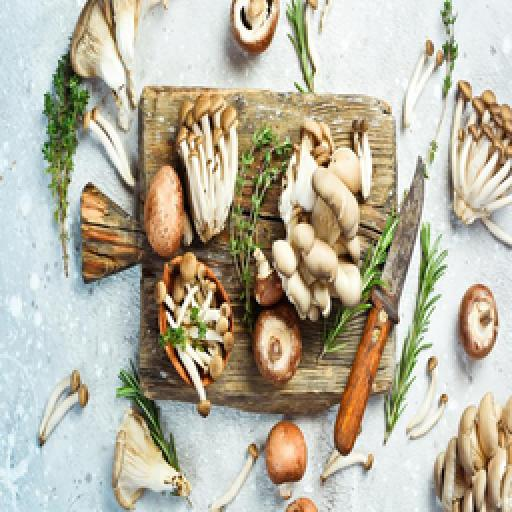mushrooms: (264, 122, 368, 330), (66, 0, 144, 196), (154, 248, 236, 398), (444, 78, 512, 246), (174, 96, 242, 246), (436, 388, 512, 512), (106, 426, 192, 512), (78, 182, 144, 286), (142, 162, 190, 266), (252, 308, 302, 388), (454, 280, 502, 362), (226, 0, 282, 62), (262, 418, 308, 490), (248, 270, 290, 312), (242, 490, 284, 512)
